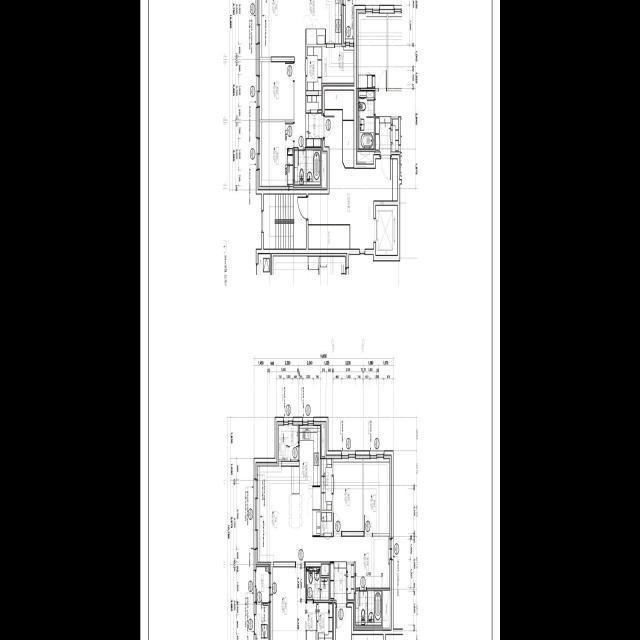background: (140, 0, 500, 640)
space_bedroom: (259, 123, 294, 187), (259, 61, 294, 120)
space_elevator_hall: (308, 110, 397, 255)
space_front: (305, 114, 321, 147)
space_kitchen: (306, 0, 341, 45)
space_living_room: (259, 0, 306, 148)
space_other: (322, 46, 354, 83), (308, 225, 349, 249), (325, 91, 353, 120), (306, 47, 321, 91), (342, 121, 353, 168), (306, 96, 321, 114), (392, 159, 397, 201), (321, 154, 326, 187)
space_staircase: (263, 193, 306, 250)
space_toilet: (294, 150, 320, 186)
